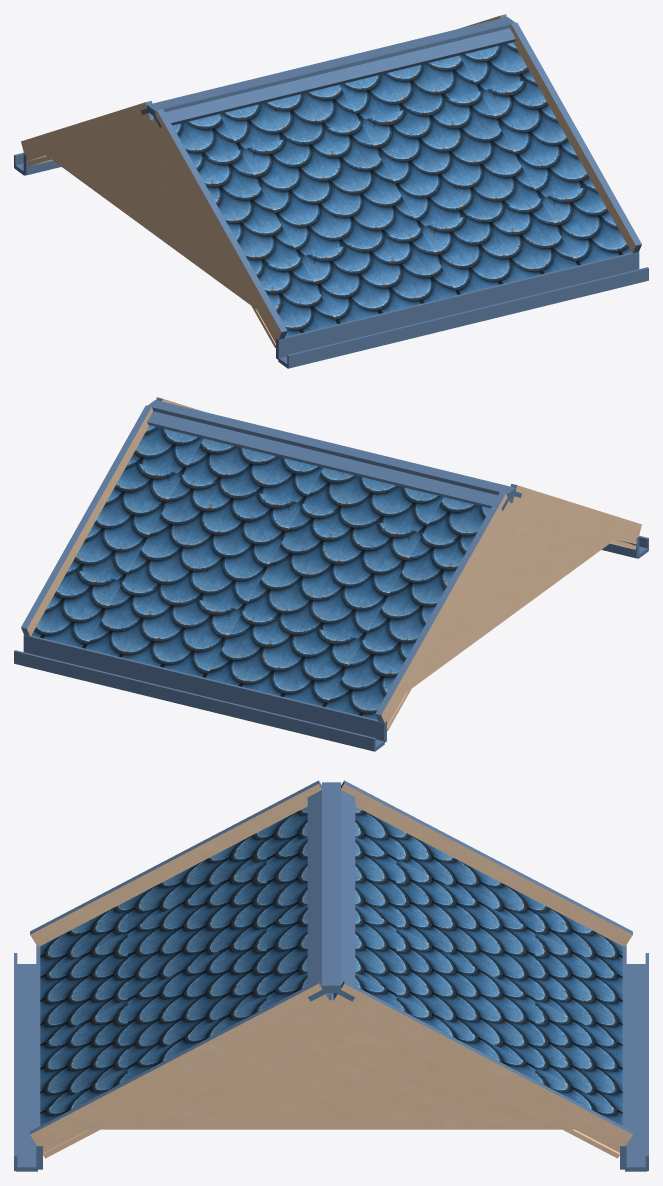
File: Roof_Gable_3x3.fbx
The picture shows the model from 3 angles, top to bottom: view 1: azimuth 30°, elevation 25°; view 2: azimuth 150°, elevation 25°; view 3: azimuth 270°, elevation 25°; orthographic projection. The views are drawn at different scales.
Visible parts, largest first — view 1: Roof_Gable_3x3; view 2: Roof_Gable_3x3; view 3: Roof_Gable_3x3.
Part boxes in pixels (x1,y1,x2,y2): Roof_Gable_3x3: (14, 14, 648, 368); Roof_Gable_3x3: (14, 397, 648, 751); Roof_Gable_3x3: (14, 780, 648, 1171).
Bounding box in the file's own units: 3 × 1.29 × 3.96.
2 materials, 2 textured.
